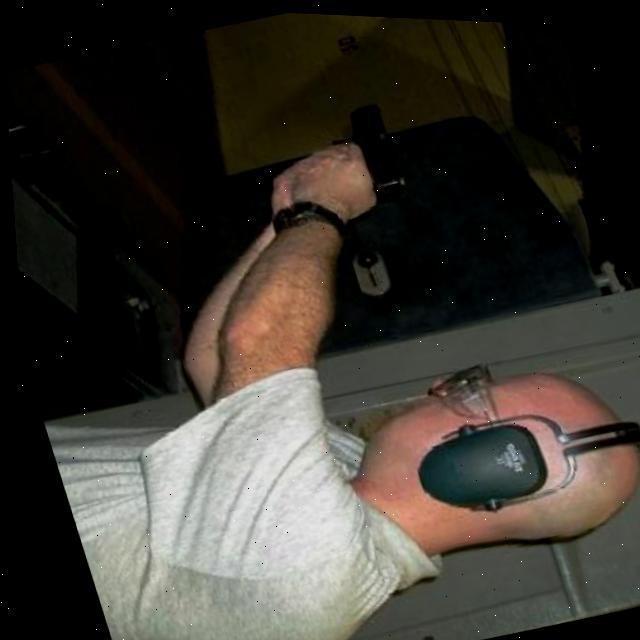gun: (318, 94, 412, 208)
